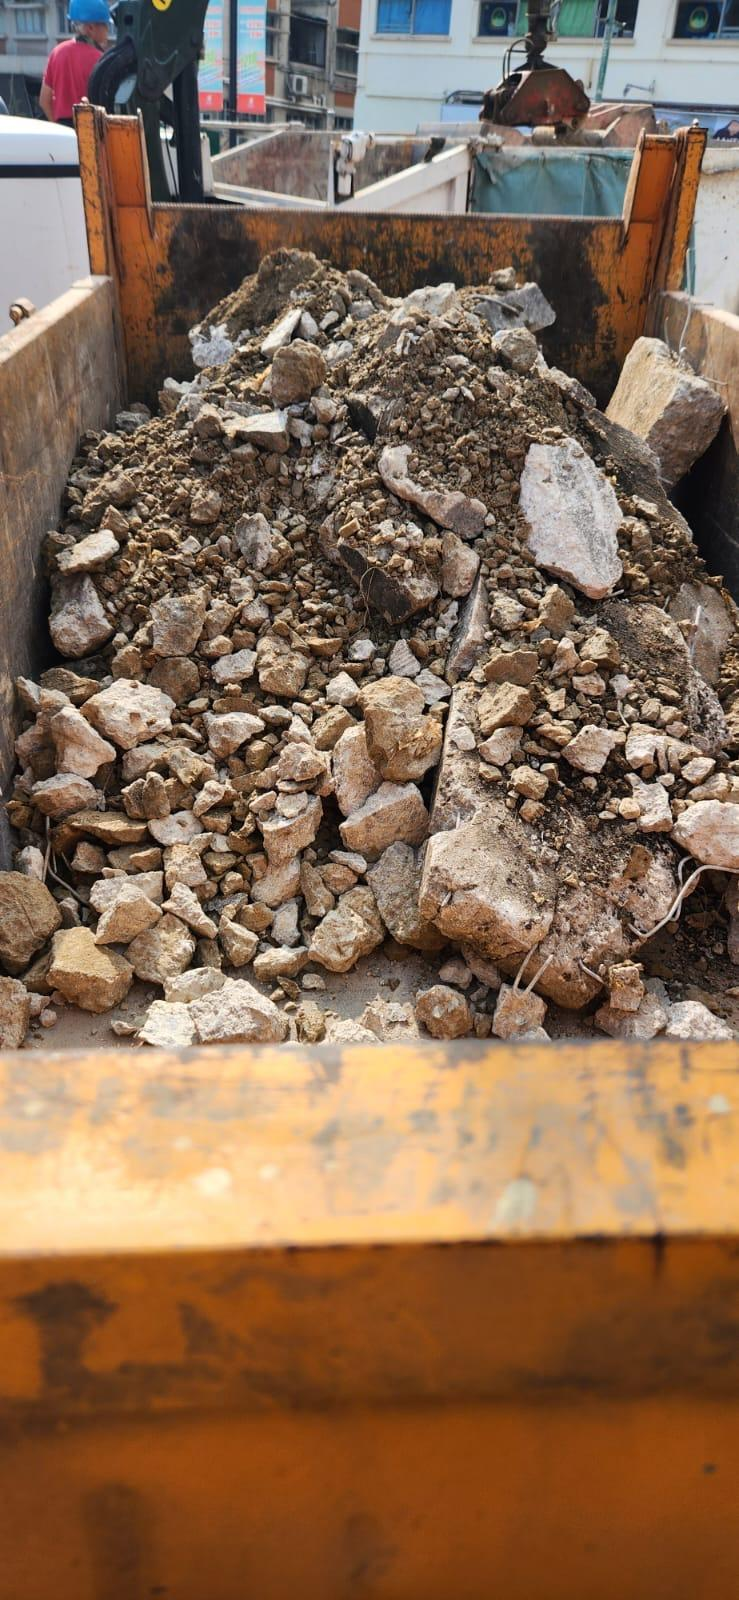stone: (2, 246, 737, 1043), (518, 434, 625, 598)
